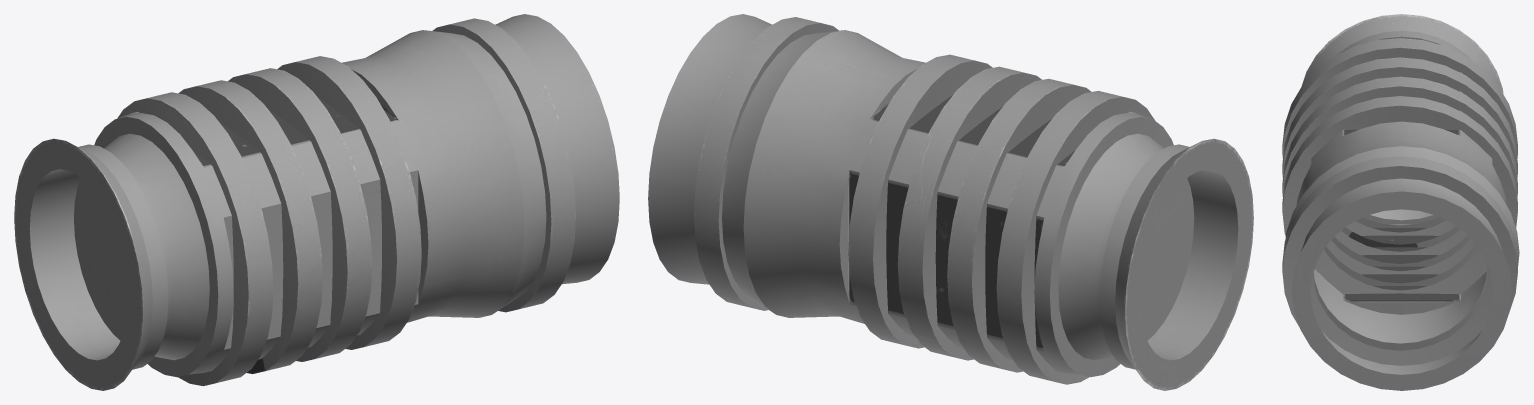
Rendered from pommel_13_c_a.glb.
3 views of the same model, side by side, from view 1: azimuth 30°, elevation 25°; view 2: azimuth 150°, elevation 25°; view 3: azimuth 270°, elevation 25° (orthographic). The views are drawn at different scales.
Parts seen in each view (by area): view 1: pommel_13_c_a_lod0; view 2: pommel_13_c_a_lod0; view 3: pommel_13_c_a_lod0.
Boxes of the visible parts, x1,y1,x2,y2 form: pommel_13_c_a_lod0: (14, 14, 619, 390); pommel_13_c_a_lod0: (648, 14, 1253, 390); pommel_13_c_a_lod0: (1282, 14, 1519, 390).
Size of what is drawn, in the model's own units: 0.0574 by 0.031 by 0.0312.
Materials: 1 (1 with a texture image).
